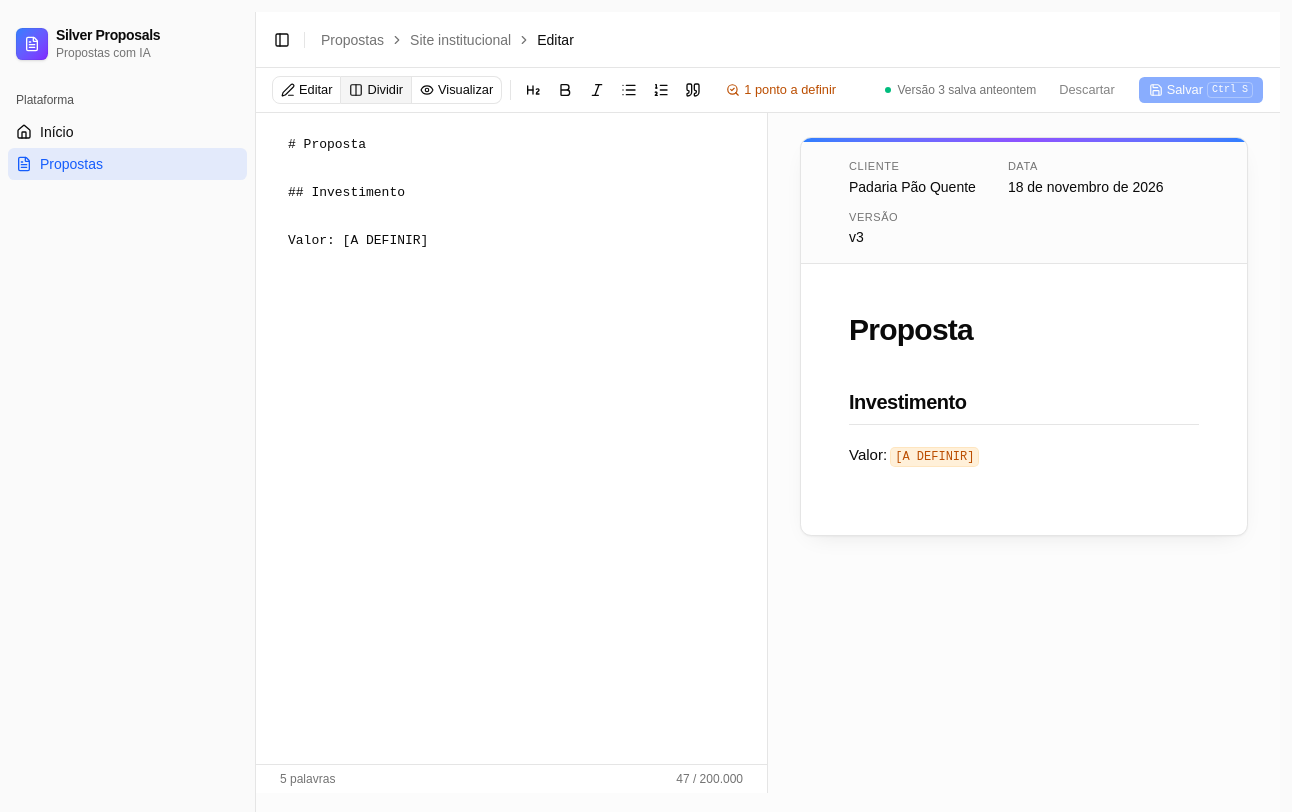
it: ProposalEditorPage › switches between editor, split, and preview
Click the button with aria-label "Só a visualização" at point(457, 90), box [412, 76, 502, 104]
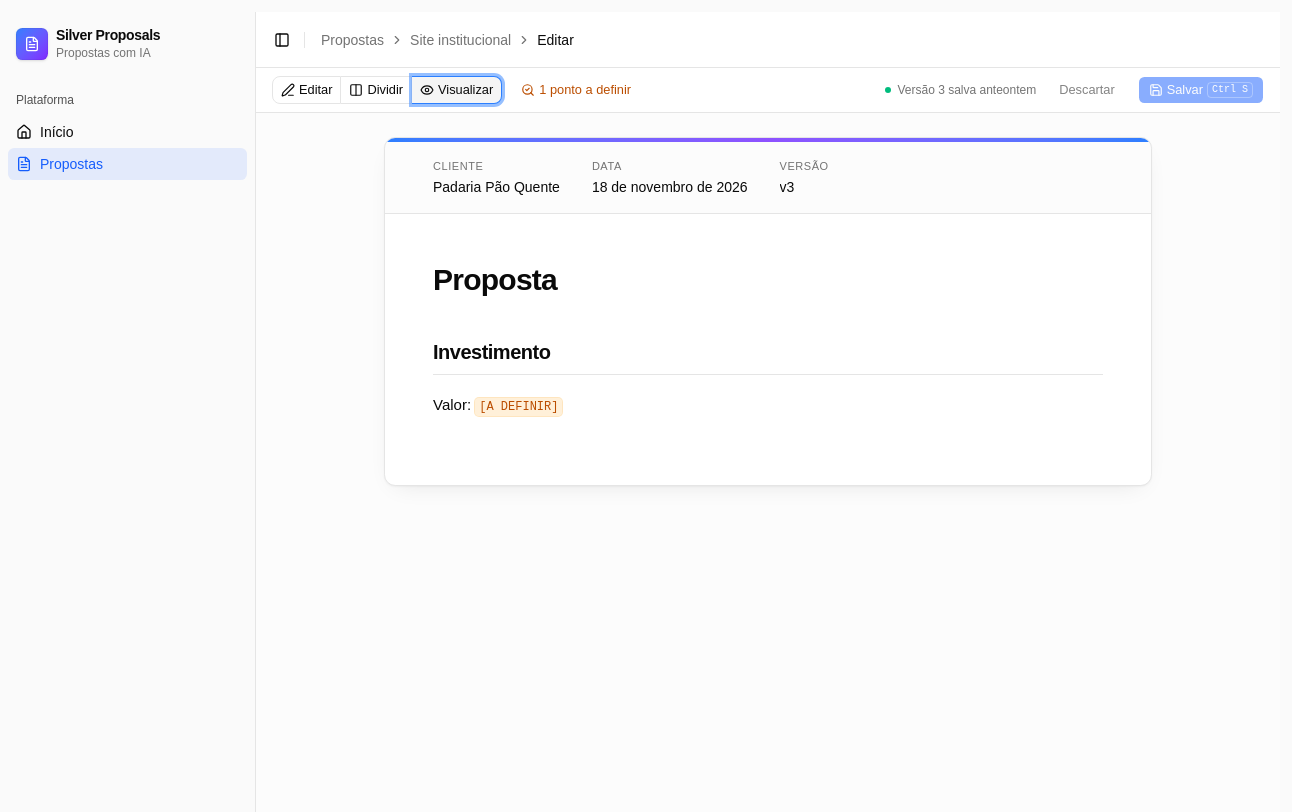
Expected: the field labelled "Conteúdo em Markdown" is not shown
Click the button with aria-label "Só o editor" at point(307, 90), box [272, 76, 341, 104]
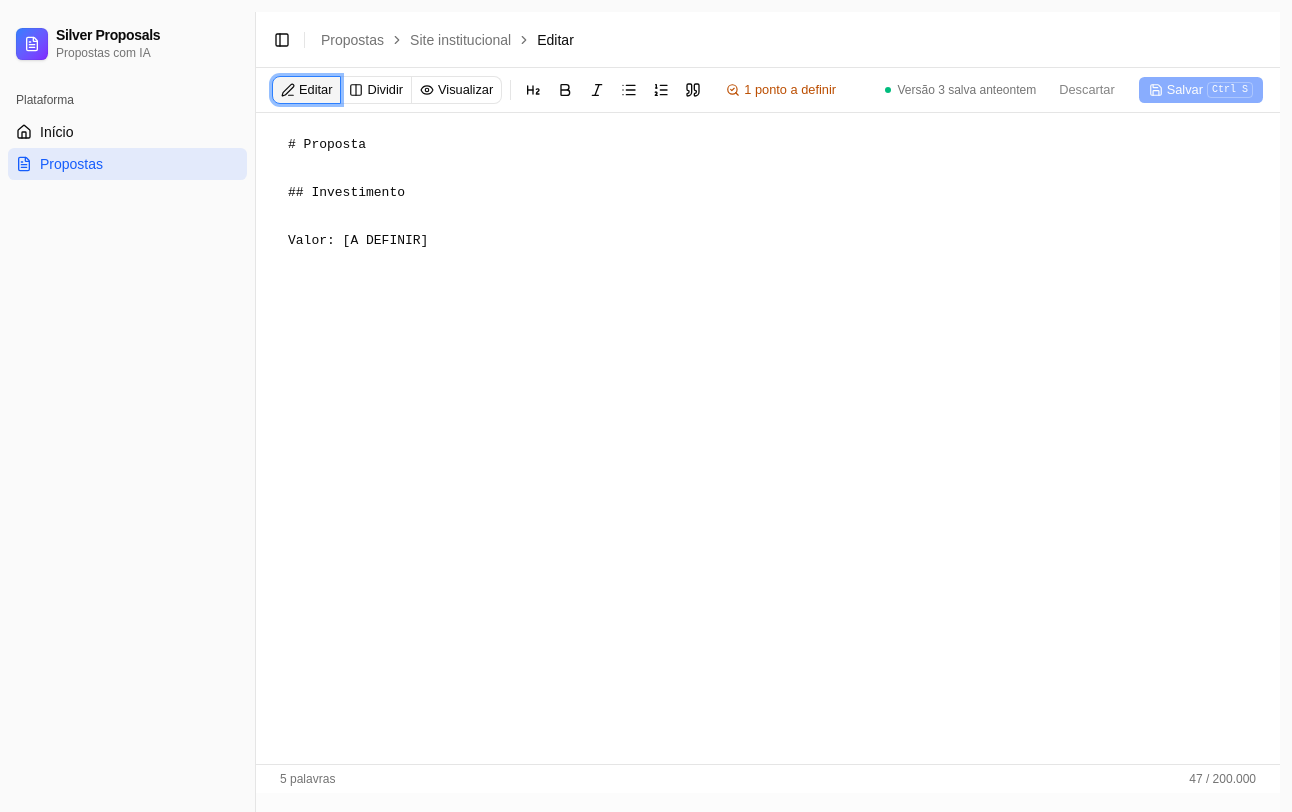
Result: the element "Visualização" is gone
